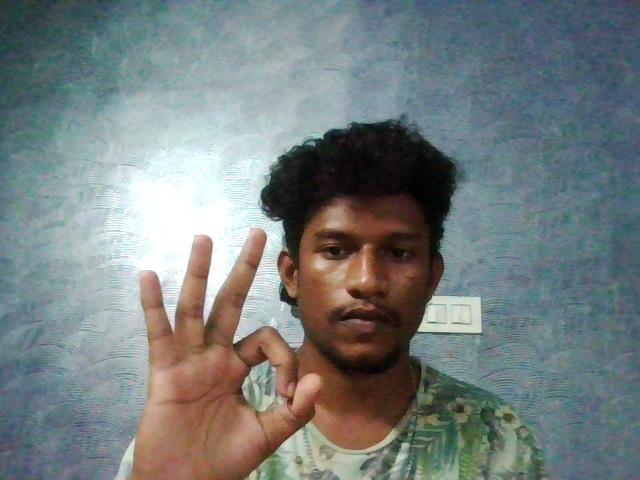good: (88, 219, 339, 480)
